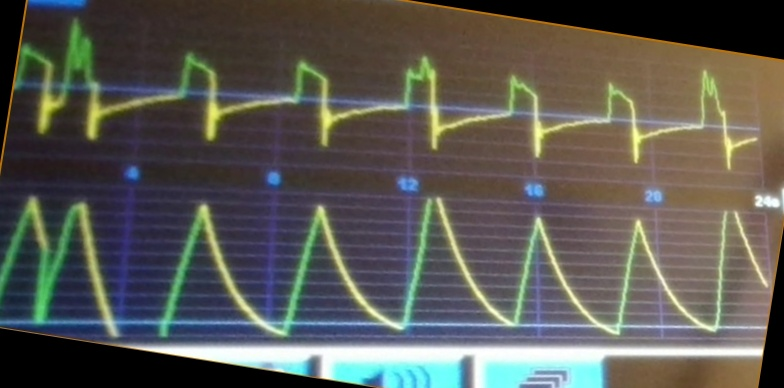Double_Triggering Flow: (13, 14, 750, 166)
Double_Triggering Volume: (3, 190, 753, 342)
